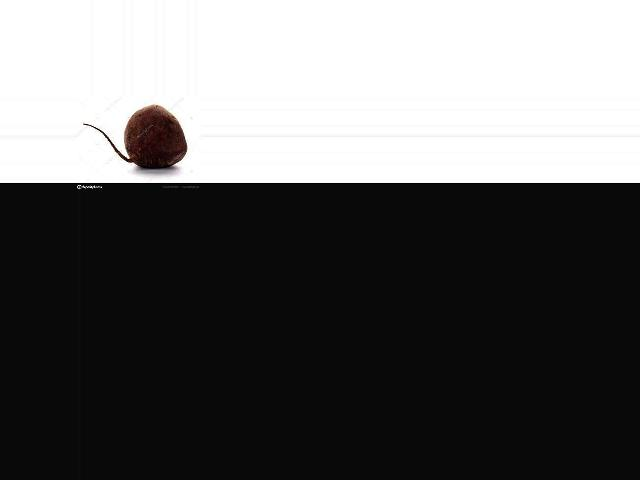beet: (83, 106, 187, 168)
